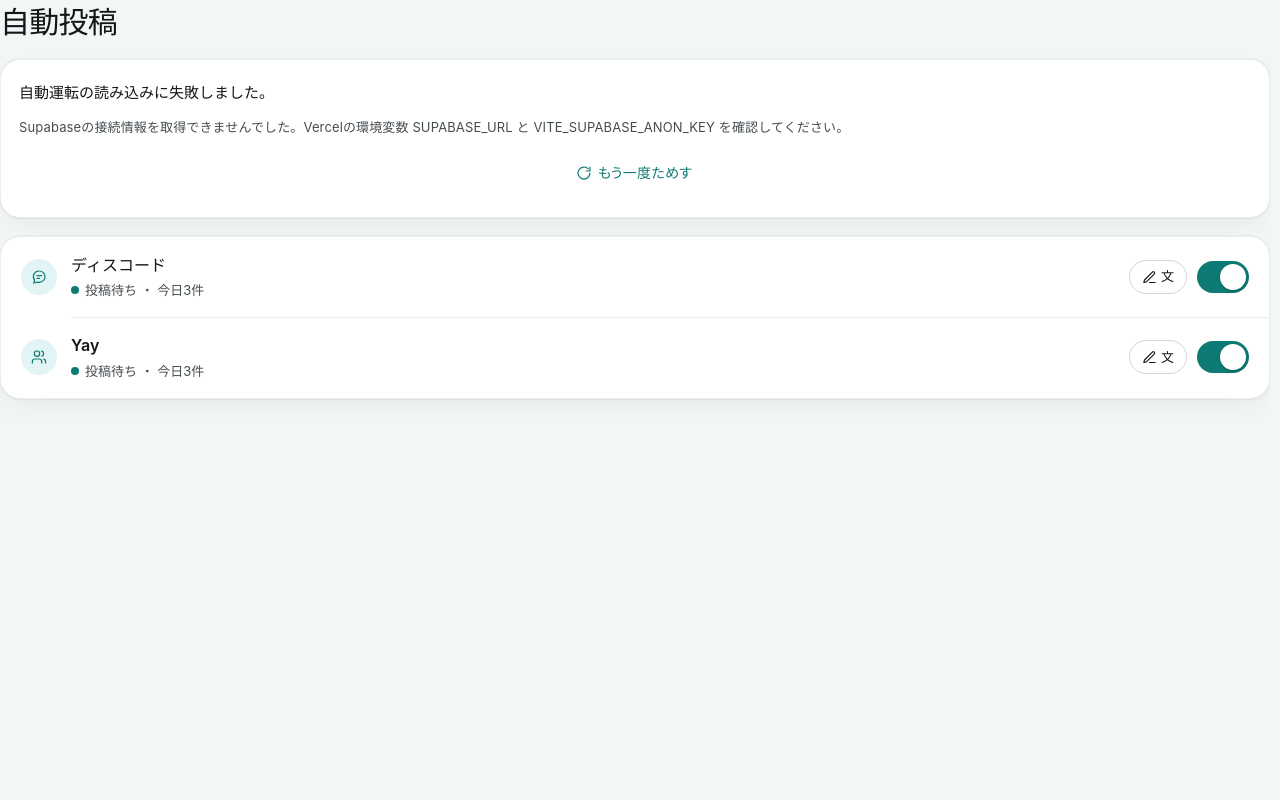
it: AutoPostHome（アプリを開いて最初の1画面） › ポップアップは×で閉じる
Click the button named "Yayの文を見る・直す" at x=1158, y=357, box [1129,340,1187,374]
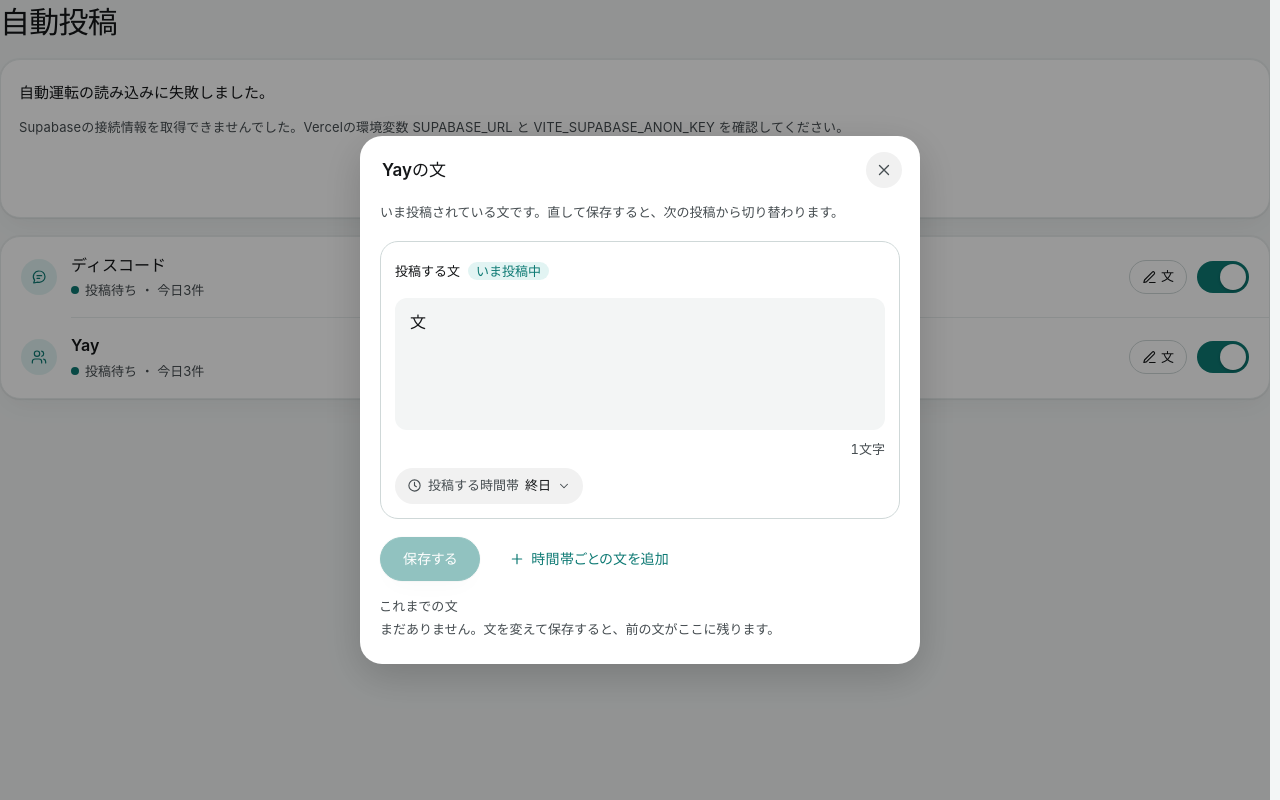
Check: the dialog "Yayの文" is shown
Click the button named "閉じる" at x=884, y=170, box [866,152,902,188]
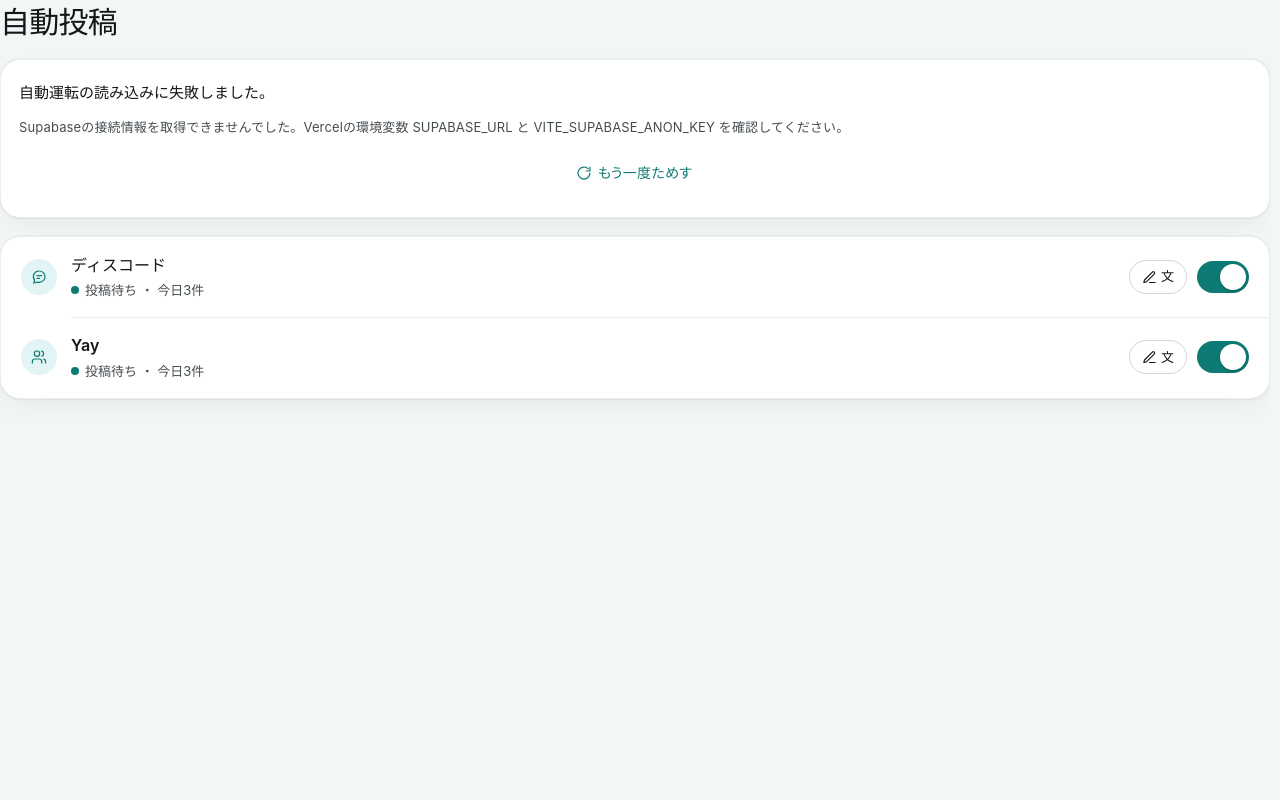
Check: the text "Yayの文" is gone
